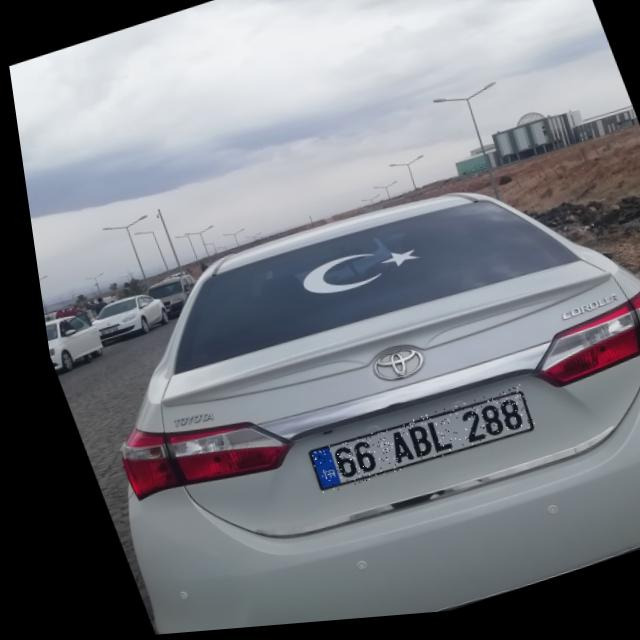license_plate: (288, 391, 527, 499)
